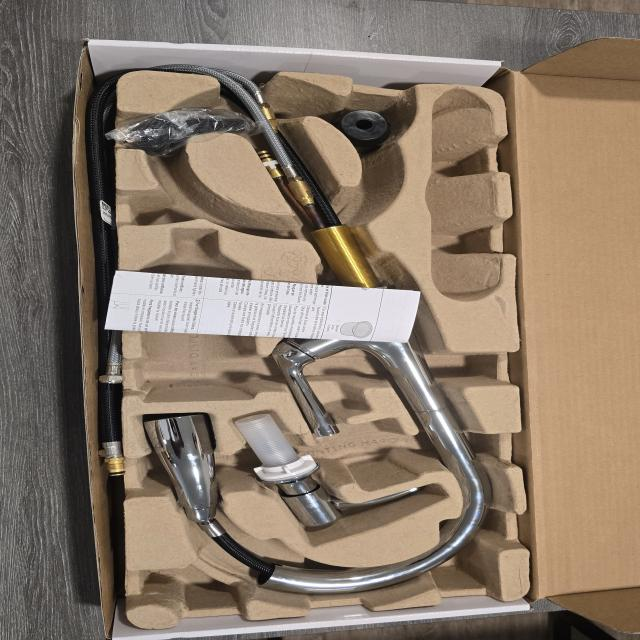1o: (144, 76, 496, 596)
2: (232, 412, 421, 528)
3m: (134, 227, 255, 400)
4m: (426, 89, 499, 304)
5: (331, 108, 394, 155)
6m: (129, 171, 254, 233)
7: (103, 107, 256, 159)
8: (104, 270, 420, 344)
